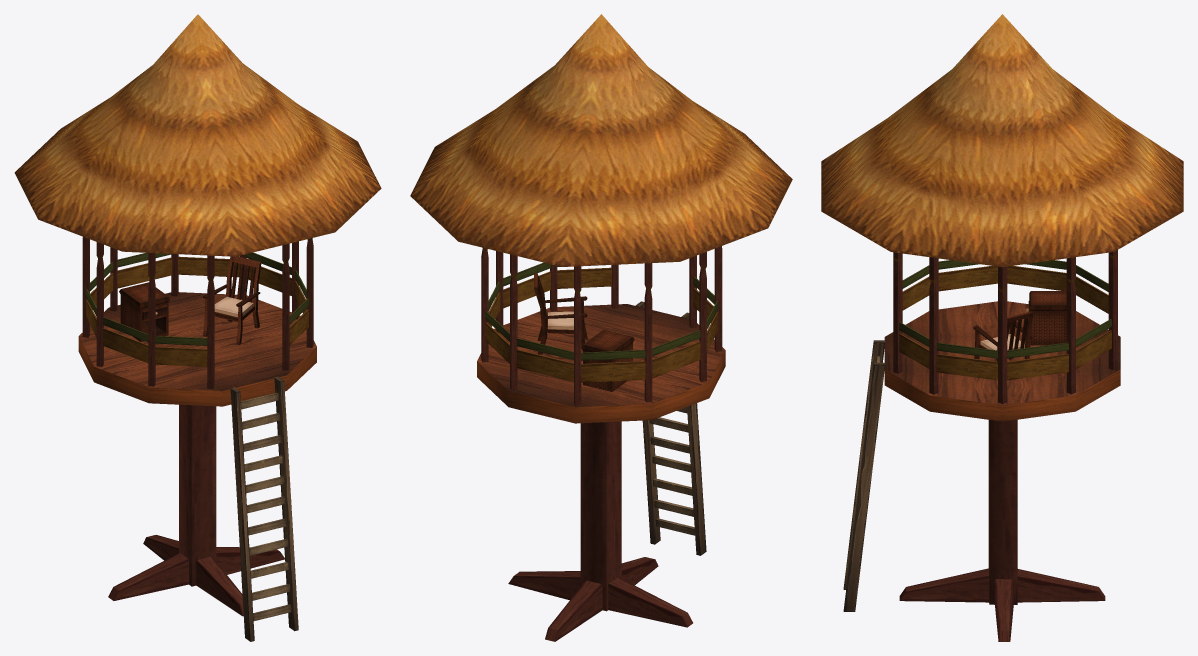
File: SC_HDjianzhu04.FBX
3 renders of one model, left to right at view 1: azimuth 30°, elevation 25°; view 2: azimuth 150°, elevation 25°; view 3: azimuth 270°, elevation 25°, orthographic. The views are drawn at different scales.
Visible parts, largest first — view 1: HutHigh_01; view 2: HutHigh_01; view 3: HutHigh_01.
Part boxes in pixels (left/top/right/bottom): HutHigh_01: left=14, top=14, right=381, bottom=641; HutHigh_01: left=410, top=14, right=792, bottom=641; HutHigh_01: left=821, top=14, right=1183, bottom=641.
Bounding box in the file's own units: 268 × 454 × 254.
